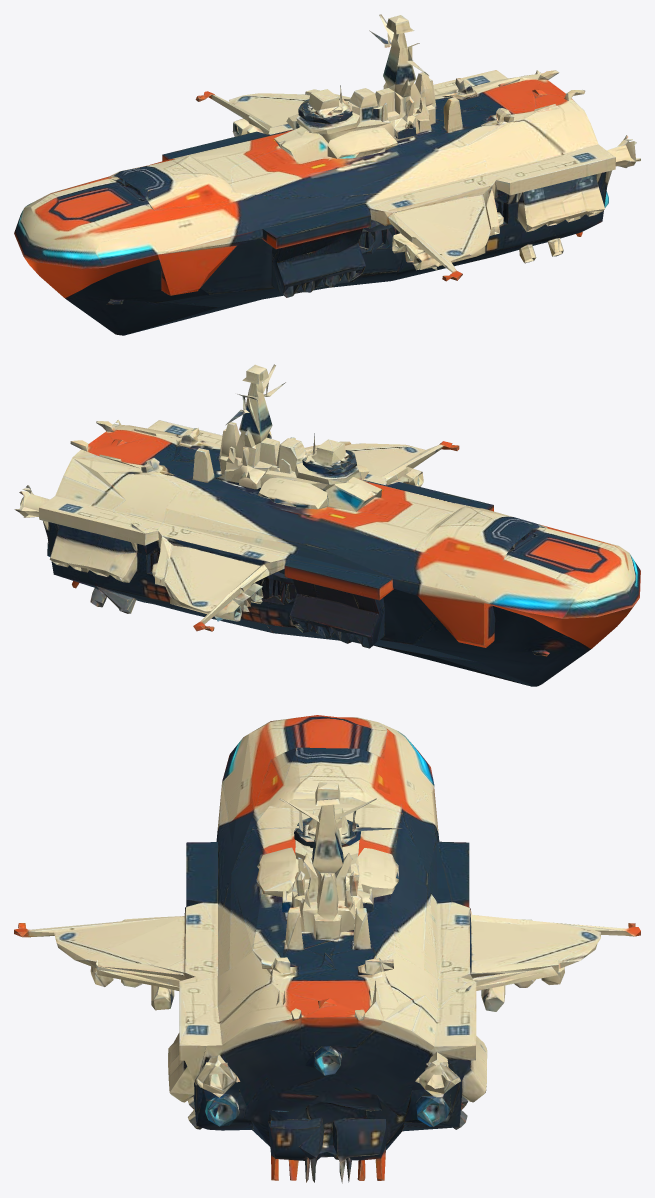
File: nation-d-carrier.glb
3 renders of one model, top to bottom at view 1: azimuth 30°, elevation 25°; view 2: azimuth 150°, elevation 25°; view 3: azimuth 270°, elevation 25°, orthographic. The views are drawn at different scales.
Size of the model in its own units: 1.9 by 0.8058 by 1.47.
Materials: 1 (1 with a texture image).
